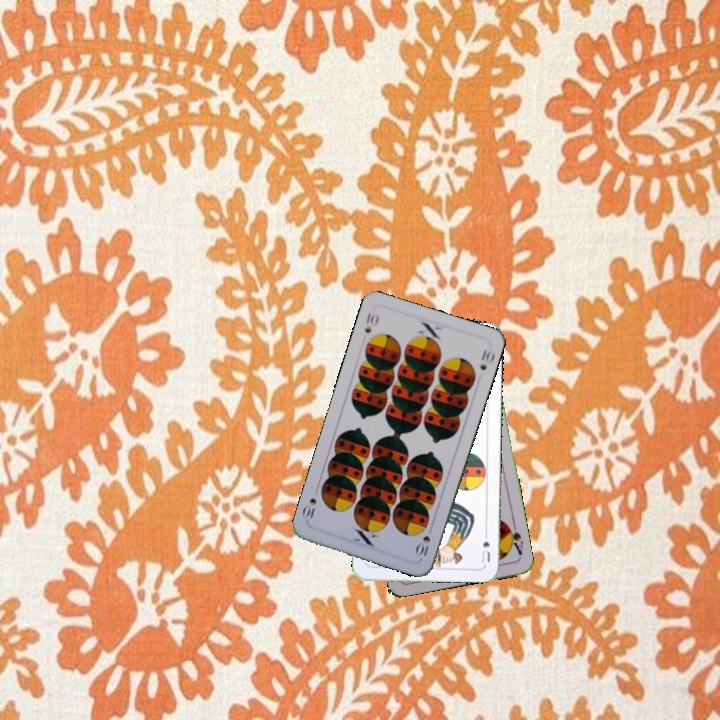S10: (412, 522, 434, 561), (360, 308, 381, 337)
SA: (502, 519, 526, 558)
SU: (478, 526, 492, 565)
